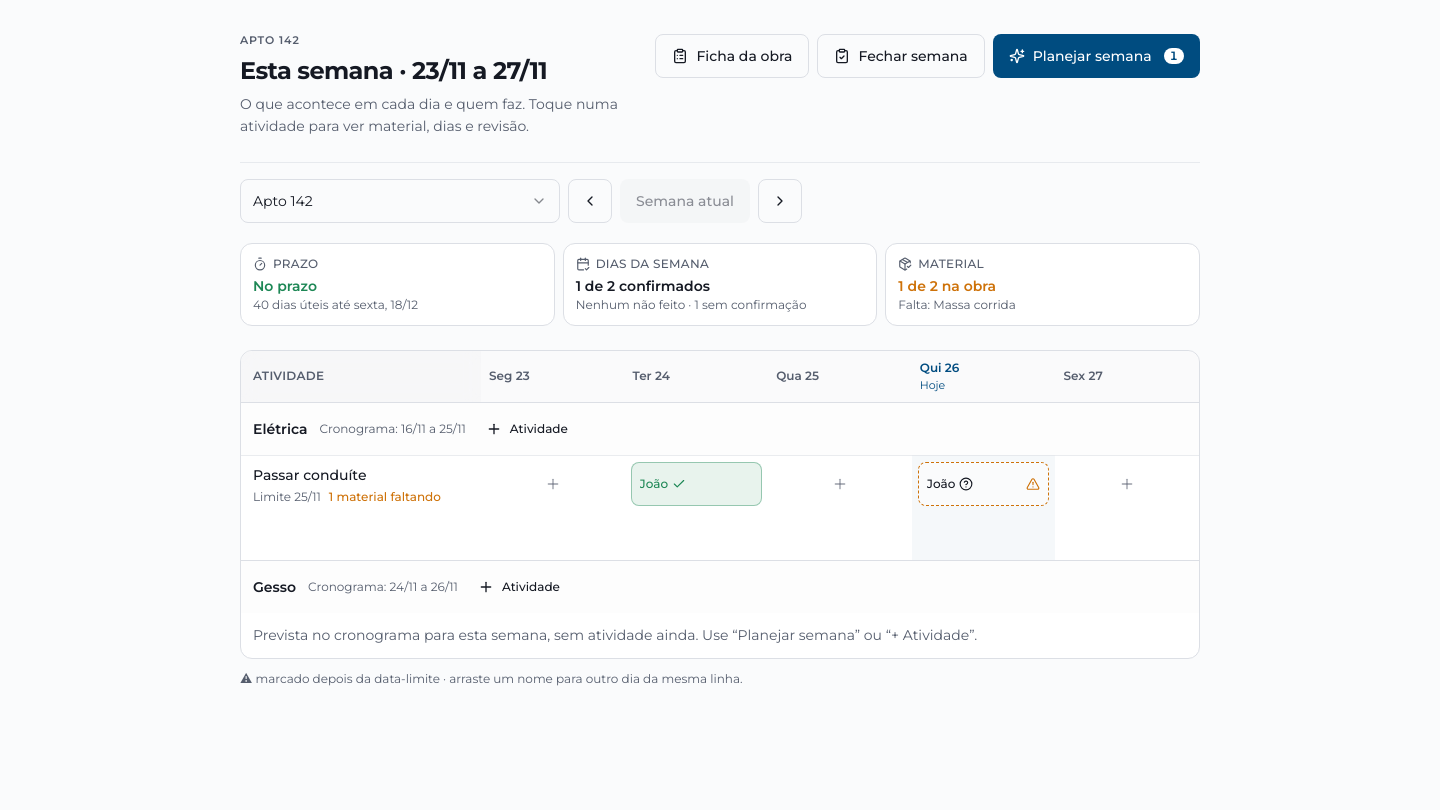
Scenario: Tela Semana › toque na atividade abre a gaveta
Click the button "Passar conduíte Limite 25/11 1 material faltando" at [361, 486], box [253,464,469,508]
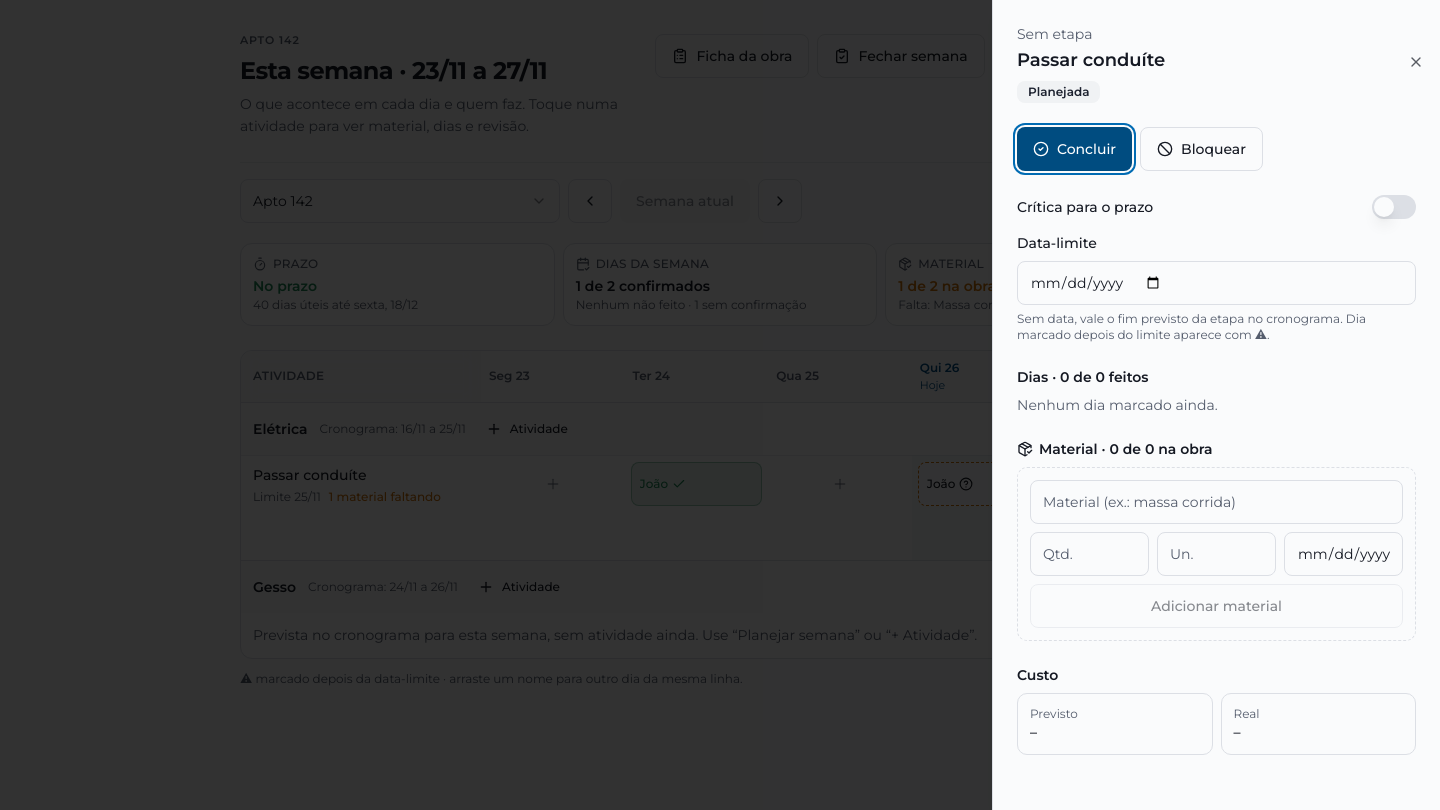
Check: the heading "Passar conduíte" is shown, box [1017,49,1165,71]
Check: the button "Concluir" is shown, box [1017,127,1132,171]
Check: the heading "Material · 0 de 0 na obra" is shown, box [1017,440,1212,458]
